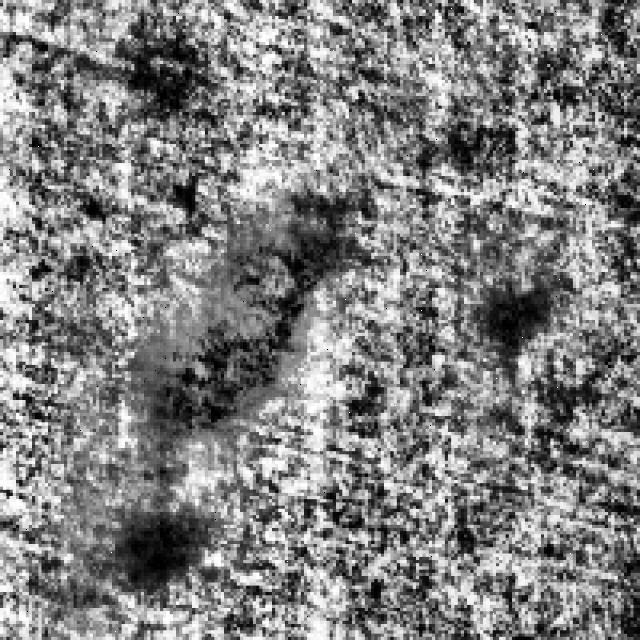Scratches: (150, 188, 352, 471), (109, 458, 221, 588), (477, 256, 573, 368)
